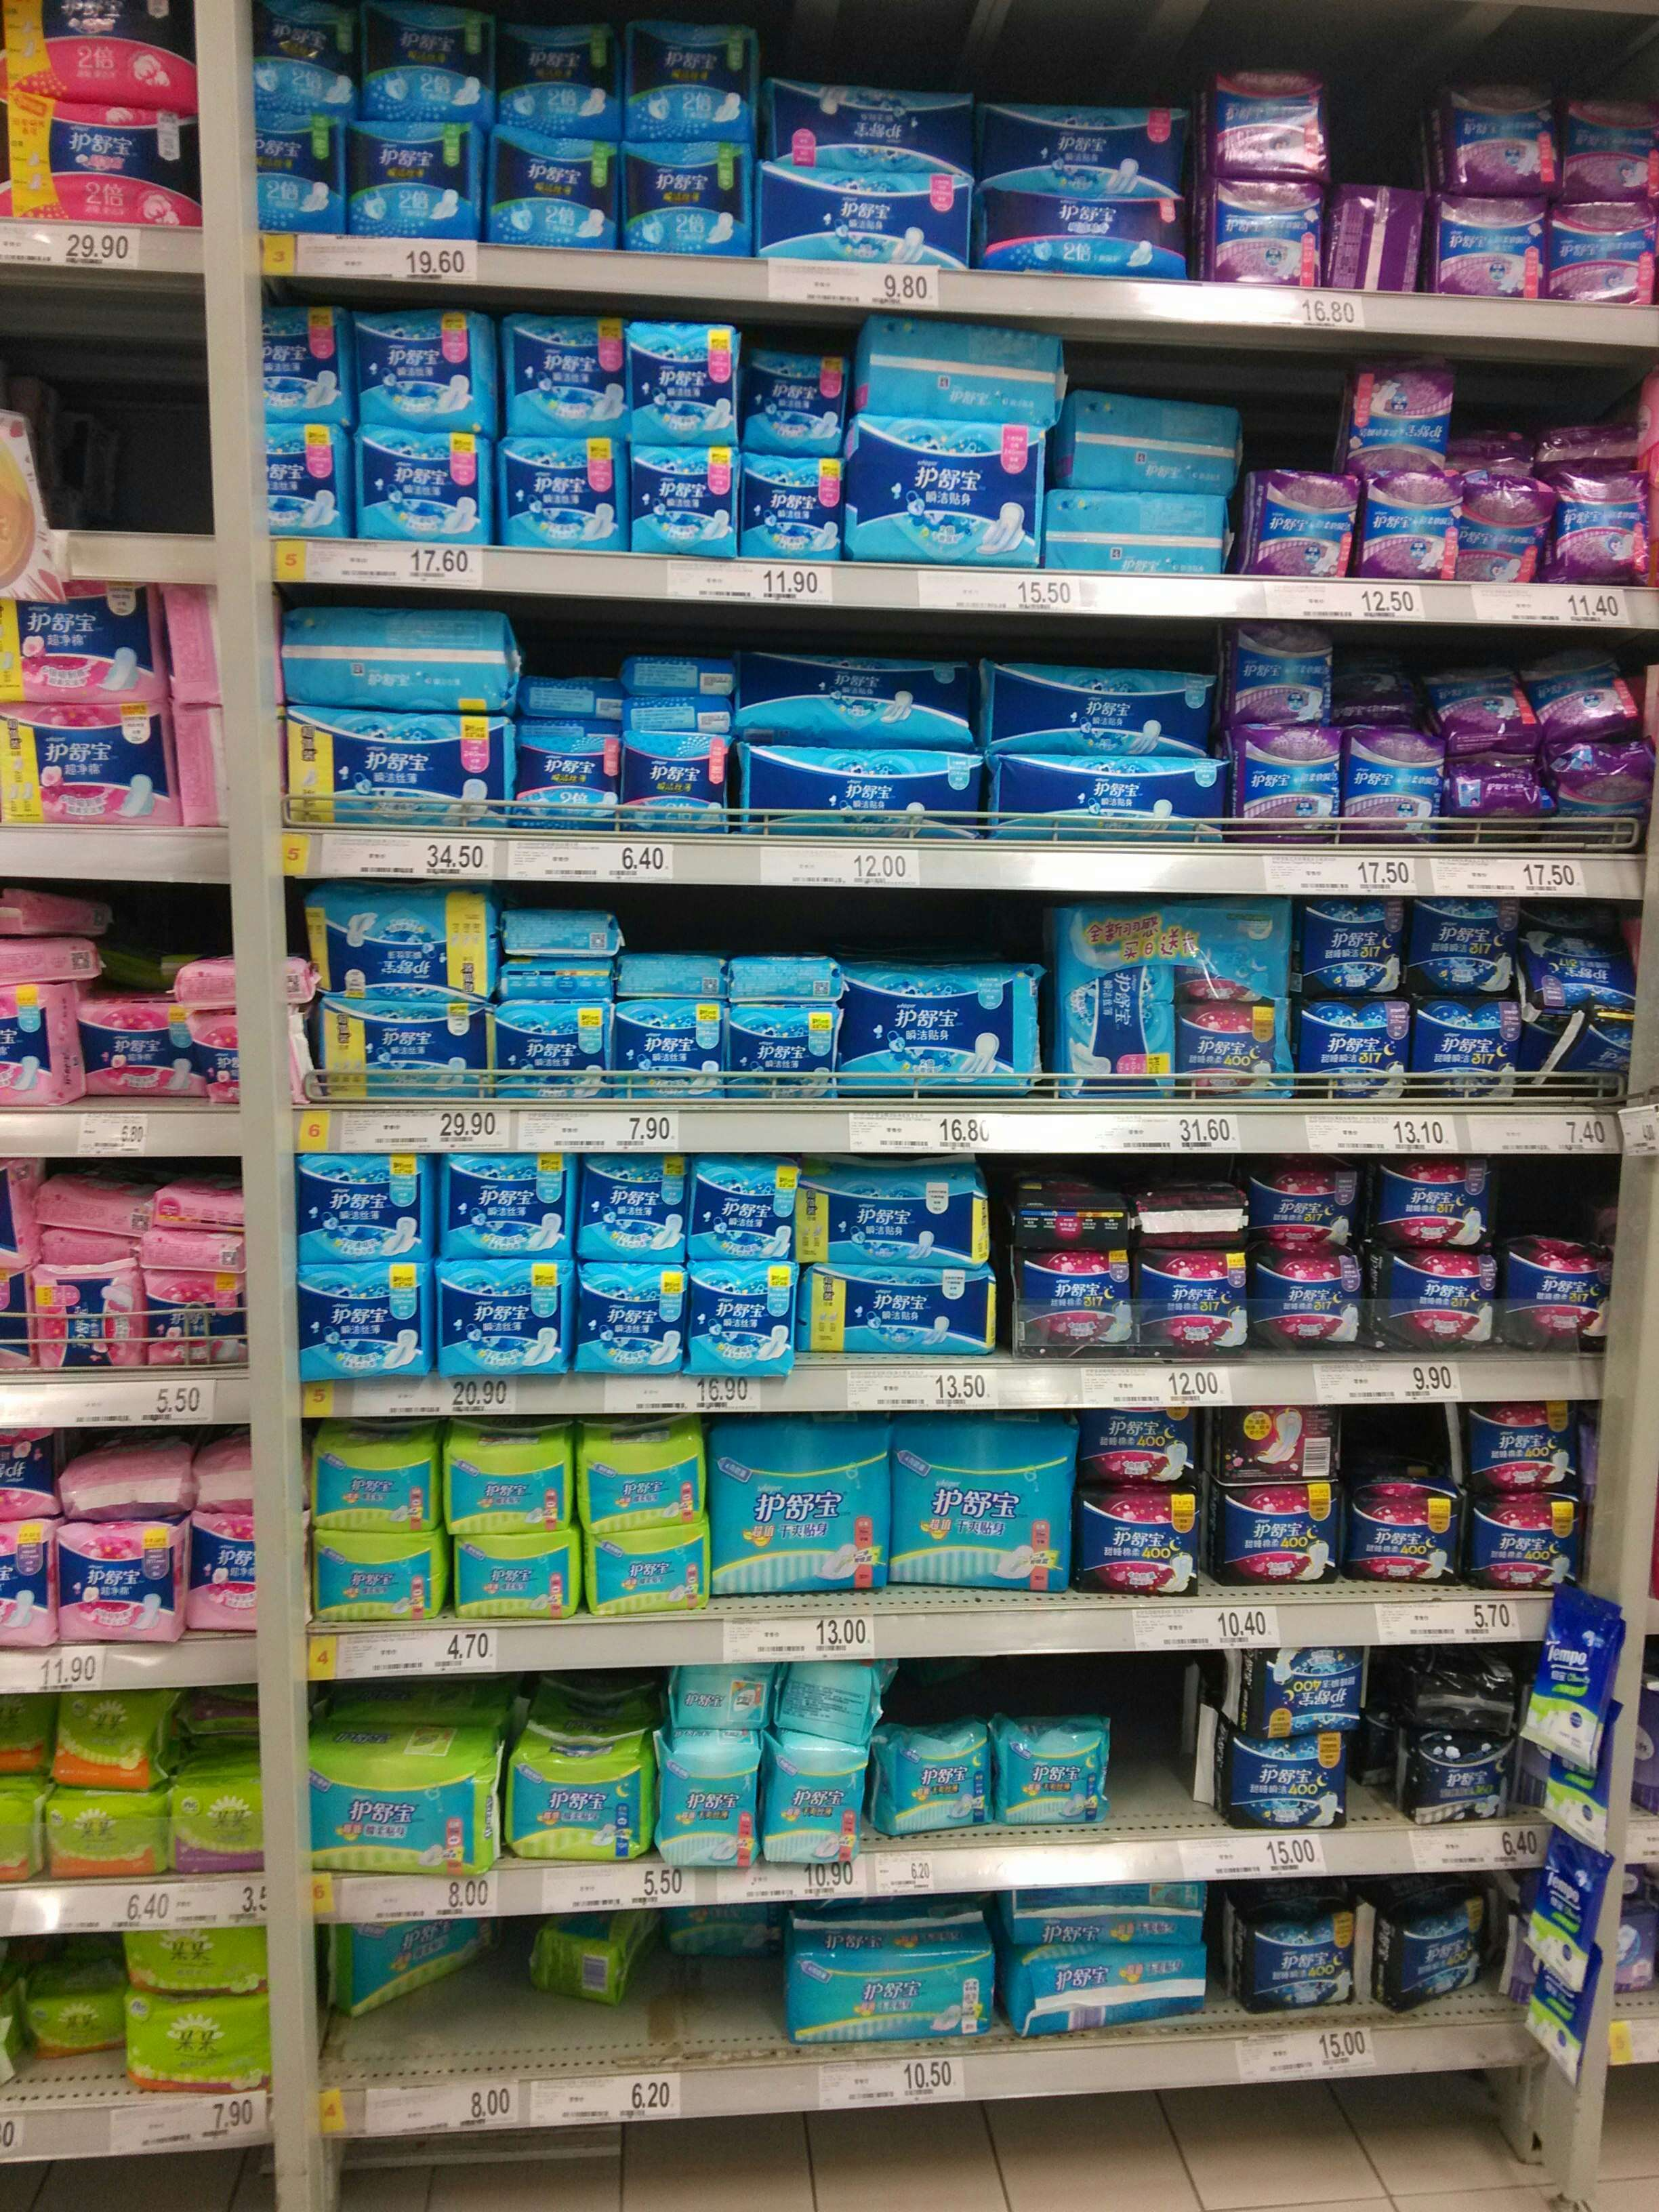Misplacement: (328, 1919, 674, 2074)
Out-of-stock: (119, 369, 204, 536)
